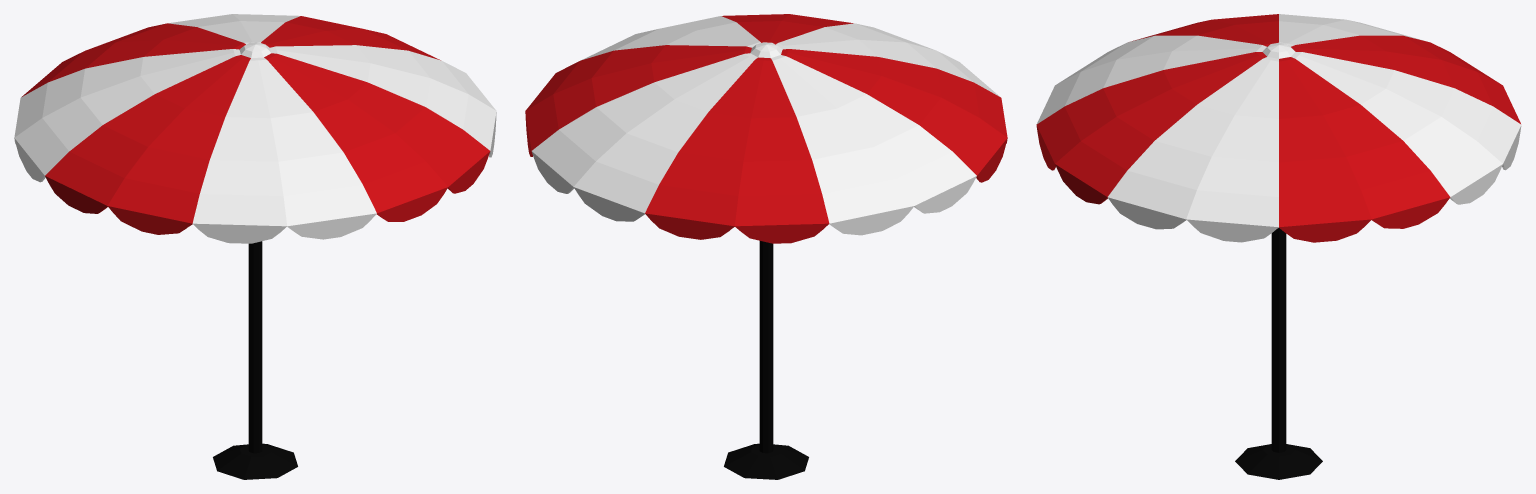
File: mdl_poland_umbrella.gltf
The picture shows the model from 3 angles, left to right: view 1: azimuth 30°, elevation 25°; view 2: azimuth 150°, elevation 25°; view 3: azimuth 270°, elevation 25°; orthographic projection.
Parts seen in each view (by area): view 1: Cylinder.013, Cylinder.012; view 2: Cylinder.013, Cylinder.012; view 3: Cylinder.013, Cylinder.012.
Boxes of the visible parts, <box> form: Cylinder.013: <box>14,14,496,243</box>; Cylinder.012: <box>213,241,297,479</box>; Cylinder.013: <box>525,14,1007,243</box>; Cylinder.012: <box>724,241,808,479</box>; Cylinder.013: <box>1036,14,1521,242</box>; Cylinder.012: <box>1235,228,1322,479</box>.
Bounding box in the file's own units: 1.92 × 1.82 × 1.92.
2 materials, 2 textured.
